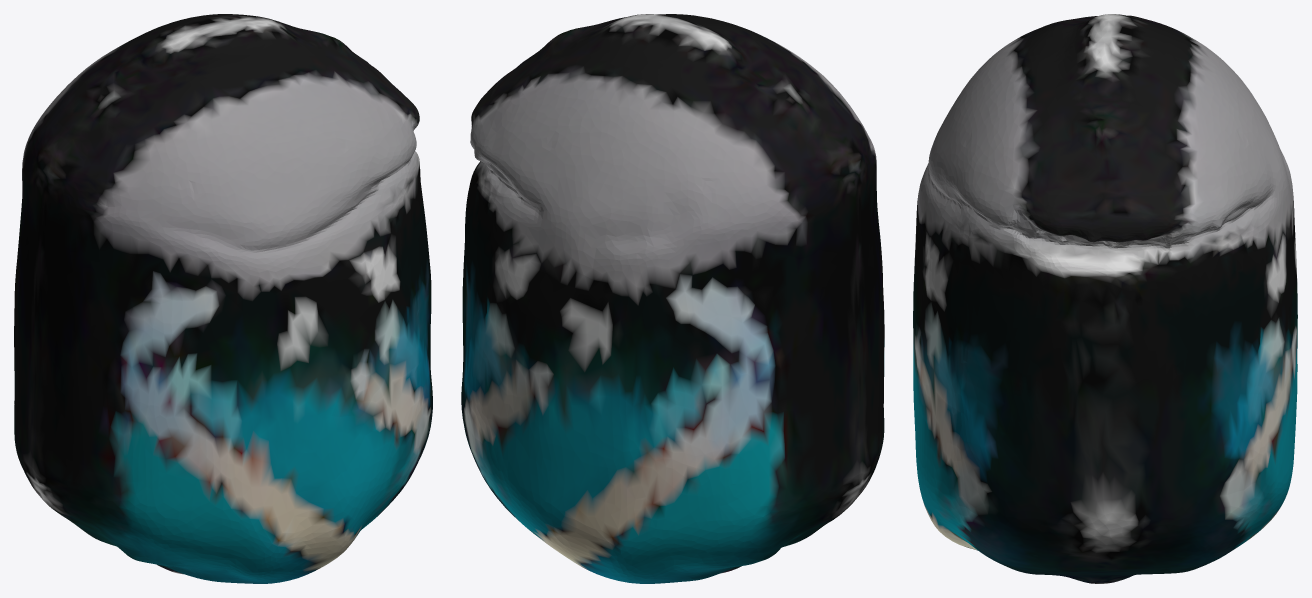
The model's file is balm_gen.glb.
3 renders of one model, left to right at view 1: azimuth 30°, elevation 25°; view 2: azimuth 150°, elevation 25°; view 3: azimuth 270°, elevation 25°, orthographic.
Visible parts, largest first — view 1: geometry_0; view 2: geometry_0; view 3: geometry_0.
Part boxes in pixels (bbox=[...]): geometry_0: bbox=[14, 14, 432, 583]; geometry_0: bbox=[461, 14, 884, 583]; geometry_0: bbox=[913, 14, 1297, 583].
Bounding box in the file's own units: 0.375 × 0.5099 × 0.3294.
